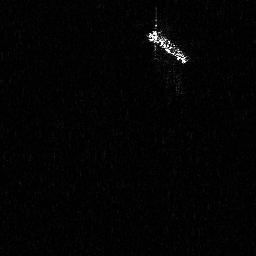ship: (145, 6, 194, 65)
